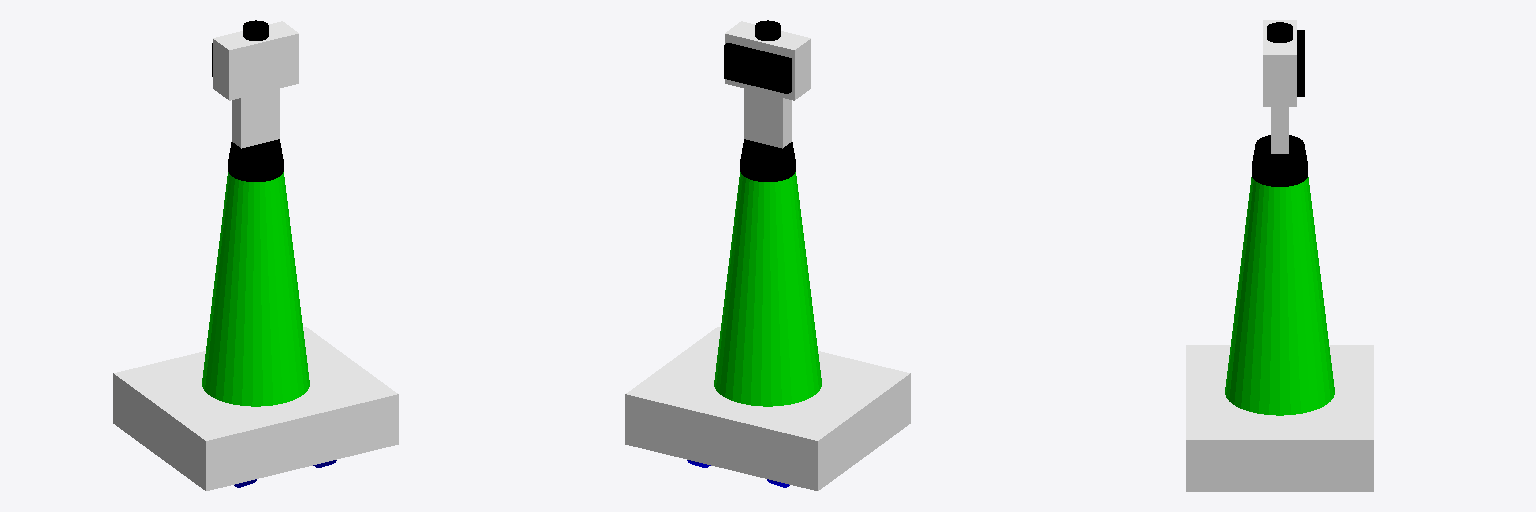
robot.urdf — isrobot:
<?xml version="1.0" ?>
<!-- =================================================================================== -->
<!-- |    This document was autogenerated by xacro from isrobot.urdf                   | -->
<!-- |    EDITING THIS FILE BY HAND IS NOT RECOMMENDED                                 | -->
<!-- =================================================================================== -->
<robot name="isrobot">
  <link name="world"/>
  <joint name="base_joint" type="fixed">
    <origin rpy="0 0 0" xyz="0 0 0"/>
    <parent link="world"/>
    <child link="base_link"/>
  </joint>
  <link name="base_link">
    <visual>
      <origin rpy="0 0 0" xyz="0 0 0.13"/>
      <geometry>
        <box size="0.6 0.5 0.15"/>
      </geometry>
      <material name="base_material">
        <color rgba="1 1 1 1"/>
      </material>
    </visual>
    <collision>
      <origin rpy="0 0 0" xyz="0 0 0.13"/>
      <geometry>
        <box size="0.6 0.5 0.15"/>
      </geometry>
    </collision>
    <gazebo>
      <self_collide>true</self_collide>
      <enable_wind>true</enable_wind>
      <kinematic>false</kinematic>
      <material>Gazebo/Yellow</material>
      <!-- This is just an example, choose your own material -->
    </gazebo>
  </link>
  <joint name="base_frustum" type="fixed">
    <origin rpy="0 0 0" xyz="0 0 0"/>
    <parent link="base_link"/>
    <child link="frustum_link"/>
    <axis xyz="0 0 1"/>
  </joint>
  <!-- Frustum Link -->
  <link name="frustum_link">
    <!-- Visual Properties for the frustum (customize as needed) -->
    <visual>
      <origin rpy="0 0 0" xyz="0 0 0.505"/>
      <!-- Adjust the position -->
      <geometry>
        <mesh filename="package://hardware_interface_pkg/meshes/frustum.dae"/>
      </geometry>
      <material name="frustum_material">
        <color rgba="0 1 0 1"/>
        <!-- black color for the frustum -->
      </material>
    </visual>
    <!-- Collision Properties for the frustum (customize as needed) -->
    <collision>
      <geometry>
        <mesh filename="package://hardware_interface_pkg/meshes/frustum.dae"/>
      </geometry>
    </collision>
  </link>
  <joint name="frustum_cylinder" type="fixed">
    <origin rpy="0 0 0" xyz="0 0 0"/>
    <parent link="frustum_link"/>
    <child link="cylindrical_link"/>
    <axis xyz="0 0 1"/>
  </joint>
  <!-- Cylindrical Link -->
  <link name="cylindrical_link">
    <!-- Visual Properties for the cylindrical shape (customize as needed) -->
    <visual>
      <origin rpy="0 0 0" xyz="0 0 0.8353"/>
      <!-- Adjust the position -->
      <geometry>
        <cylinder length="0.0606" radius="0.075"/>
        <!-- Adjust dimensions for the cylinder -->
      </geometry>
      <material name="cylindrical_material">
        <color rgba="0 0 0 1"/>
        <!-- Red color for the cylindrical shape -->
      </material>
    </visual>
    <!-- Collision Properties for the cylindrical shape (customize as needed) -->
    <collision>
      <geometry>
        <cylinder length="0.0606" radius="0.15"/>
        <!-- Adjust dimensions for collision -->
      </geometry>
    </collision>
  </link>
  <joint name="cylindrical_midbody" type="fixed">
    <origin rpy="0 0 0" xyz="0 0 0"/>
    <parent link="cylindrical_link"/>
    <child link="midbody_link"/>
    <axis xyz="0 0 1"/>
  </joint>
  <!-- Spherical Link -->
  <link name="midbody_link">
    <!-- Visual Properties for the spherical shape (customize as needed) -->
    <visual>
      <origin rpy="0 0 0" xyz="0 0 0.8996"/>
      <!-- Adjust the position -->
      <geometry>
        <mesh filename="package://hardware_interface_pkg/meshes/midbody.dae"/>
      </geometry>
      <material name="spherical_material">
        <color rgba="0 0 0 1"/>
        <!-- Blue color for the spherical shape -->
      </material>
    </visual>
    <!-- Collision Properties for the spherical shape (customize as needed) -->
    <collision>
      <geometry>
        <mesh filename="package://hardware_interface_pkg/meshes/midbody.dae"/>
      </geometry>
    </collision>
  </link>
  <joint name="midbody_cuboidal" type="fixed">
    <origin rpy="0 0 0" xyz="0 0 0"/>
    <parent link="midbody_link"/>
    <child link="cuboidal_link"/>
    <axis xyz="0 0 1"/>
  </joint>
  <!-- Cuboidal Link -->
  <link name="cuboidal_link">
    <!-- Visual Properties for the cuboidal shape (customize as needed) -->
    <visual>
      <origin rpy="0 0 0" xyz="0 0 1.05"/>
      <!-- Adjust the position -->
      <geometry>
        <box size="0.12 0.05 0.268"/>
        <!-- Adjust dimensions for the cuboid -->
      </geometry>
      <material name="cuboidal_material">
        <color rgba="1 1 1 1"/>
        <!-- Yellow color for the cuboidal shape -->
      </material>
    </visual>
    <!-- Collision Properties for the cuboidal shape (customize as needed) -->
    <collision>
      <geometry>
        <box size="0.12 0.05 0.268"/>
        <!-- Adjust dimensions for collision -->
      </geometry>
    </collision>
  </link>
  <joint name="cuboidal_head" type="fixed">
    <origin rpy="0 0 0" xyz="0 0 0"/>
    <parent link="cuboidal_link"/>
    <child link="head_link"/>
    <axis xyz="0 0 1"/>
  </joint>
  <!-- Head Link (Add visual, collision, inertial, and joints as needed) -->
  <link name="head_link">
    <!-- Visual Properties for the cuboidal shape (customize as needed) -->
    <visual>
      <origin rpy="0 0 0" xyz="0 0 1.1666"/>
      <!-- Adjust the position -->
      <geometry>
        <box size="0.2184 0.09 0.15"/>
        <!-- Adjust dimensions for the cuboid -->
      </geometry>
      <material name="cuboidal_material">
        <color rgba="1 1 1 1"/>
        <!-- Yellow color for the cuboidal shape -->
      </material>
    </visual>
    <!-- Collision Properties for the cuboidal shape (customize as needed) -->
    <collision>
      <geometry>
        <box size="0.2184 0.09 0.15"/>
        <!-- Adjust dimensions for collision -->
      </geometry>
    </collision>
  </link>
  <joint name="head_display" type="fixed">
    <origin rpy="0 0 0" xyz="0 0 0"/>
    <parent link="head_link"/>
    <child link="display_link"/>
    <axis xyz="0 0 1"/>
  </joint>
  <!-- Head Link (Add visual, collision, inertial, and joints as needed) -->
  <link name="display_link">
    <!-- Visual Properties for the cuboidal shape (customize as needed) -->
    <visual>
      <origin rpy="0 0 0" xyz="0 0.03 1.1666"/>
      <!-- Adjust the position -->
      <geometry>
        <box size="0.2 0.07 0.1"/>
        <!-- Adjust dimensions for the cuboid -->
      </geometry>
      <material name="cuboidal_material">
        <color rgba="0 0 0 1"/>
        <!-- Yellow color for the cuboidal shape -->
      </material>
    </visual>
    <!-- Collision Properties for the cuboidal shape (customize as needed) -->
    <collision>
      <geometry>
        <box size="0.2 0.09 0.1"/>
        <!-- Adjust dimensions for collision -->
      </geometry>
    </collision>
  </link>
  <joint name="head_lidar" type="fixed">
    <origin rpy="0 0 0" xyz="0 0 0"/>
    <parent link="head_link"/>
    <child link="lidar_link"/>
    <axis xyz="0 0 1"/>
  </joint>
  <!-- Lidar Link -->
  <link name="lidar_link">
    <!-- Visual Properties for the lidar (customize as needed) -->
    <visual>
      <origin rpy="0 0 0" xyz="0 0 1.256"/>
      <geometry>
        <cylinder length="0.03" radius="0.035"/>
      </geometry>
      <material name="lidar_material">
        <color rgba="0 0 0 1"/>
        <!-- Red color for lidar -->
      </material>
    </visual>
    <!-- Collision Properties for the lidar (customize as needed) -->
    <collision>
      <geometry>
        <cylinder length="0.03" radius="0.035"/>
      </geometry>
    </collision>
  </link>
  <!-- Wheel Link -->
  <link name="wheel_link_1">
    <!-- Visual Properties for the wheel (customize as needed) -->
    <visual>
      <origin rpy="0 1.5 0" xyz="0.125 0.125 0.055"/>
      <geometry>
        <cylinder length="0.04" radius="0.07"/>
      </geometry>
      <material name="wheel_material">
        <color rgba="0 0 1 1"/>
        <!-- Black color for the wheel -->
      </material>
    </visual>
    <!-- Collision Properties for the wheel (customize as needed) -->
    <collision>
      <geometry>
        <cylinder length="0.04" radius="0.07"/>
      </geometry>
    </collision>
  </link>
  <!-- Wheel Link -->
  <link name="wheel_link_2">
    <!-- Visual Properties for the wheel (customize as needed) -->
    <visual>
      <origin rpy="0 1.5 0" xyz="-0.125 0.125 0.055"/>
      <geometry>
        <cylinder length="0.04" radius="0.07"/>
      </geometry>
      <material name="wheel_material">
        <color rgba="0 0 1 1"/>
        <!-- Black color for the wheel -->
      </material>
    </visual>
    <!-- Collision Properties for the wheel (customize as needed) -->
    <collision>
      <geometry>
        <cylinder length="0.04" radius="0.07"/>
      </geometry>
    </collision>
  </link>
  <!-- Wheel Link -->
  <link name="wheel_link_3">
    <!-- Visual Properties for the wheel (customize as needed) -->
    <visual>
      <origin rpy="0 1.5 0" xyz="-0.125 -0.125 0.055"/>
      <geometry>
        <cylinder length="0.04" radius="0.07"/>
      </geometry>
      <material name="wheel_material">
        <color rgba="0 0 1 1"/>
        <!-- Black color for the wheel -->
      </material>
    </visual>
    <!-- Collision Properties for the wheel (customize as needed) -->
    <collision>
      <geometry>
        <cylinder length="0.04" radius="0.07"/>
      </geometry>
    </collision>
  </link>
  <!-- Wheel Link -->
  <link name="wheel_link_4">
    <!-- Visual Properties for the wheel (customize as needed) -->
    <visual>
      <origin rpy="0 1.5 0" xyz="0.125 -0.125 0.055"/>
      <geometry>
        <cylinder length="0.04" radius="0.07"/>
      </geometry>
      <material name="wheel_material">
        <color rgba="0 0 1 1"/>
        <!-- Black color for the wheel -->
      </material>
    </visual>
    <!-- Collision Properties for the wheel (customize as needed) -->
    <collision>
      <geometry>
        <cylinder length="0.04" radius="0.07"/>
      </geometry>
    </collision>
  </link>
  <!-- Attach the wheels to the base link using joints -->
  <joint name="wheel_joint_1" type="continuous">
    <origin rpy="0 0 0" xyz="0 0 0"/>
    <parent link="base_link"/>
    <child link="wheel_link_1"/>
    <axis xyz="0 1 0"/>
  </joint>
  <joint name="wheel_joint_2" type="continuous">
    <origin rpy="0 0 0" xyz="0 0 0"/>
    <parent link="base_link"/>
    <child link="wheel_link_2"/>
    <axis xyz="0 1 0"/>
  </joint>
  <joint name="wheel_joint_3" type="continuous">
    <origin rpy="0 0 0" xyz="0 0 0"/>
    <parent link="base_link"/>
    <child link="wheel_link_3"/>
    <axis xyz="0 1 0"/>
  </joint>
  <joint name="wheel_joint_4" type="continuous">
    <origin rpy="0 0 0" xyz="0 0 0"/>
    <parent link="base_link"/>
    <child link="wheel_link_4"/>
    <axis xyz="0 1 0"/>
  </joint>
  <!-- Camera Sensor -->
  <gazebo reference="head_link">
    <sensor name="head_camera" type="camera">
      <camera name="head_camera">
        <!-- Camera parameters -->
        <horizontal_fov>1.047</horizontal_fov>
        <image>
          <width>640</width>
          <height>480</height>
          <format>R8G8B8</format>
        </image>
        <clip>
          <near>0.01</near>
          <far>100</far>
        </clip>
        <noise>
          <type>gaussian</type>
          <!-- Noise is sampled independently per pixel on each frame.
               That pixel's noise value is added to each of its color
               channels, which at that point lie in the range [0,1]. -->
          <mean>0.0</mean>
          <stddev>0.007</stddev>
        </noise>
      </camera>
      <!-- Add a plugin to specify the ROS topic name -->
      <plugin filename="libgazebo_ros_camera.so" name="camera_controller">
        <!-- Sensor settings -->
        <always_on>true</always_on>
        <update_rate>30.0</update_rate>
        <visualize>true</visualize>
        <cameraName>isrobot/front_cam</cameraName>
        <imageTopicName>image_raw</imageTopicName>
        <cameraInfoTopicName>camera_info</cameraInfoTopicName>
        <frameName>camera_link</frameName>
        <hackBaseline>0.07</hackBaseline>
        <distortionK1>0.0</distortionK1>
        <distortionK2>0.0</distortionK2>
        <distortionK3>0.0</distortionK3>
        <distortionT1>0.0</distortionT1>
        <distortionT2>0.0</distortionT2>
      </plugin>
    </sensor>
  </gazebo>
</robot>

--- Facts derived from the render (not from the file) ---
Views: 3 orthographic renders of the robot side by side, from view 1: azimuth 30°, elevation 25°; view 2: azimuth 150°, elevation 25°; view 3: azimuth 270°, elevation 25°.
Model isrobot with 13 links and 12 joints (4 continuous, 8 fixed), rooted at world, posed every joint at zero.
Visible links, largest first — view 1: base_link, frustum_link, head_link, cuboidal_link, midbody_link, cylindrical_link; view 2: base_link, frustum_link, head_link, display_link, cuboidal_link, midbody_link, cylindrical_link; view 3: base_link, frustum_link, head_link, midbody_link, cuboidal_link, cylindrical_link, display_link.
Link boxes in pixels (x1,y1,x2,y2): base_link: (113, 327, 398, 490); frustum_link: (202, 172, 309, 406); head_link: (213, 21, 298, 100); cuboidal_link: (232, 89, 279, 148); midbody_link: (228, 139, 283, 172); cylindrical_link: (228, 162, 283, 181); base_link: (625, 327, 910, 490); frustum_link: (714, 172, 821, 406); head_link: (725, 21, 810, 100); display_link: (724, 43, 791, 93); cuboidal_link: (744, 89, 791, 148); midbody_link: (740, 139, 795, 172); cylindrical_link: (740, 162, 795, 181); base_link: (1186, 345, 1373, 491); frustum_link: (1225, 177, 1334, 415); head_link: (1263, 20, 1296, 106); midbody_link: (1252, 135, 1307, 176); cuboidal_link: (1271, 107, 1288, 153); cylindrical_link: (1252, 168, 1307, 186); display_link: (1297, 30, 1304, 96).
Bounding box of the posed robot: 0.6 × 0.5 × 1.29 m (x, y, z).
Meshes: 2 distinct files referenced, 2 mesh visuals loaded (2 Collada DAE).
